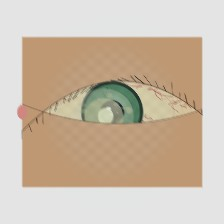corneal_ulcer: (72, 91, 135, 141)
